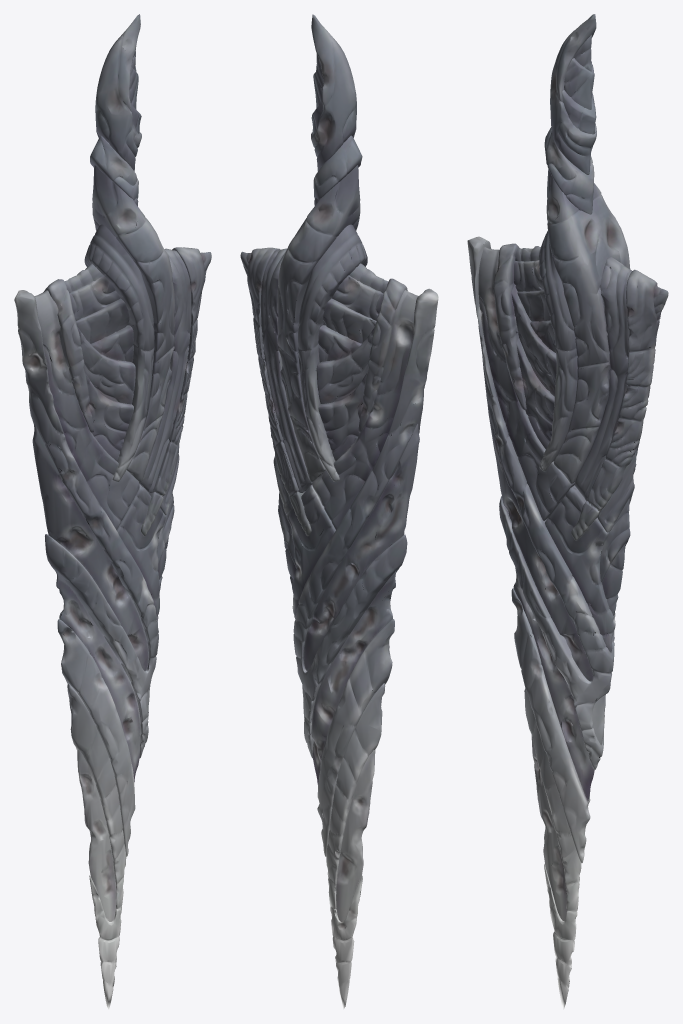
The model's file is purenail.glb.
The picture shows the model from 3 angles, left to right: view 1: azimuth 30°, elevation 25°; view 2: azimuth 150°, elevation 25°; view 3: azimuth 330°, elevation 25°; orthographic projection.
Parts seen in each view (by area): view 1: purenail_blade; view 2: purenail_blade; view 3: purenail_blade.
Boxes of the visible parts, x1,y1,x2,y2 form: purenail_blade: (14, 14, 211, 1009); purenail_blade: (240, 14, 438, 1009); purenail_blade: (467, 14, 668, 1009).
Size of the model in its own units: 0.2916 by 1.4 by 0.1179.
1 material, 1 textured.
